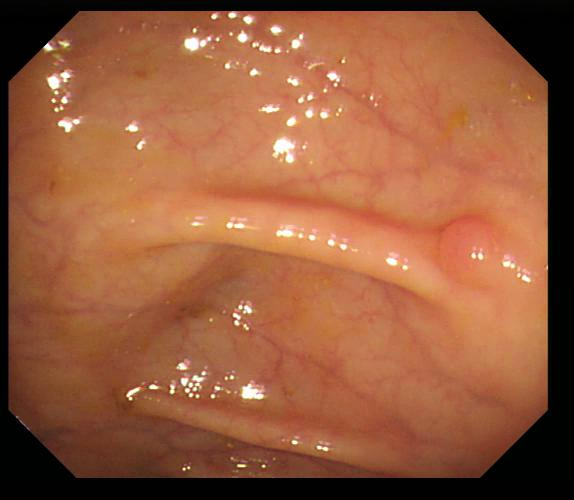polyp: (434, 213, 522, 294)
